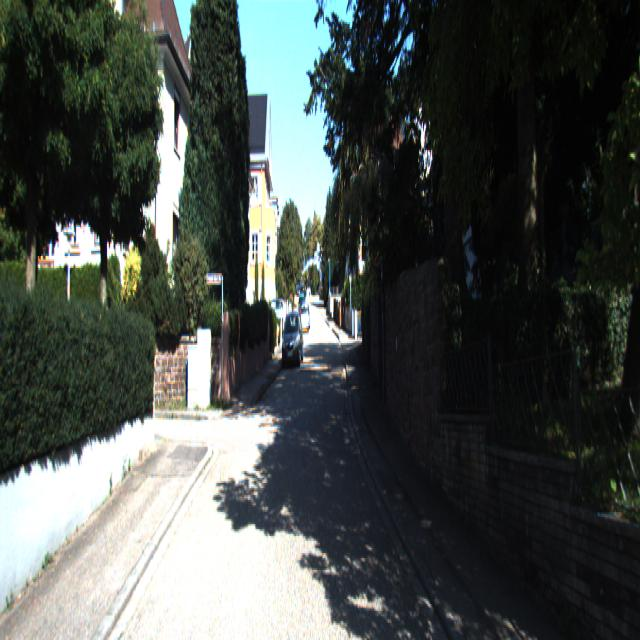Car: (281, 313, 305, 368)
